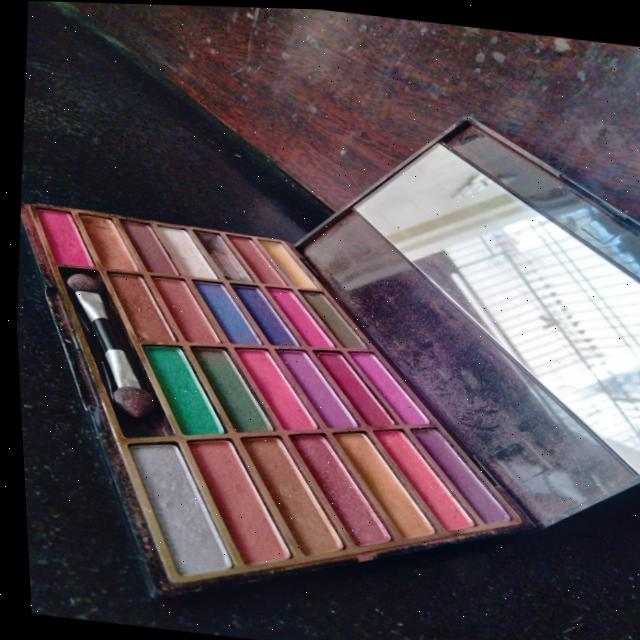eye shade: (8, 202, 529, 612)
